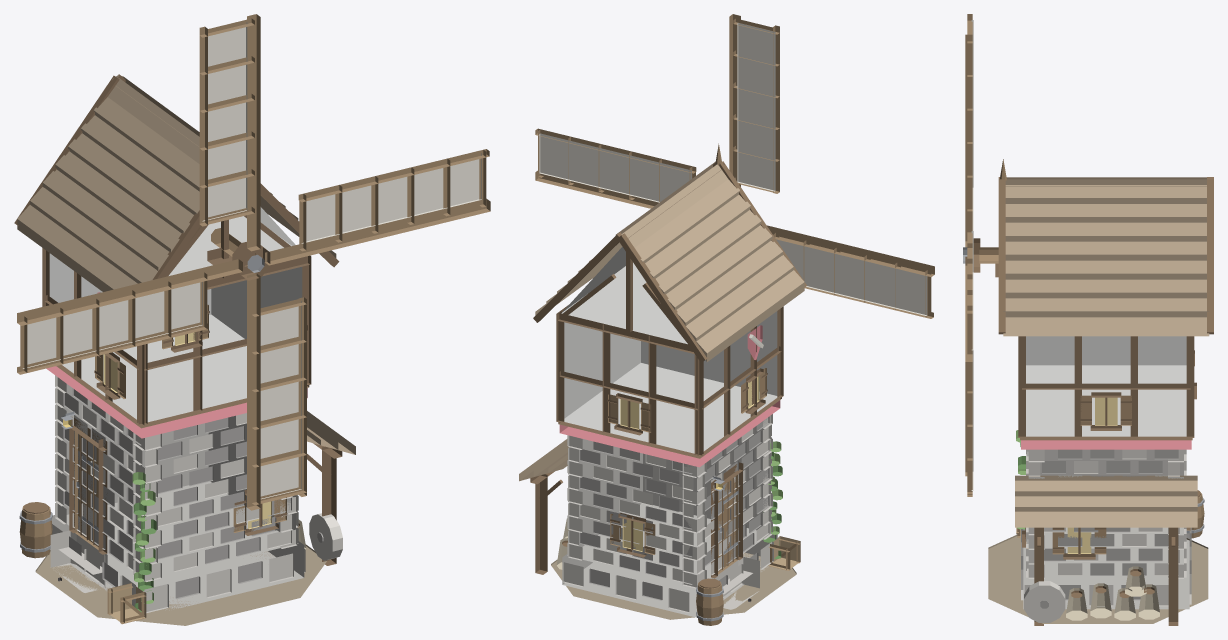
File: mill_2.glb
3 views of the same model, side by side, from view 1: azimuth 30°, elevation 25°; view 2: azimuth 150°, elevation 25°; view 3: azimuth 270°, elevation 25° (orthographic). The views are drawn at different scales.
Visible parts, largest first — view 1: Upper, Walls, Sails.Canvas, Sails.Canvas#3, Sails.Canvas#2, Sails.Canvas#4, Ground, Base, Roof, Roof#3, Roof#4, Roof#5 (+30 smaller); view 2: Upper, Sails.Canvas#2, Walls, Sails.Canvas#3, Sails.Canvas, Gable, Roof, Base, Ground, Roof#2, Roof#3, Roof#4 (+24 smaller); view 3: Upper, Roof#9, Ground, Roof#11, Roof#12, Roof#10, Shed.Roof, Roof#13, Roof#14, Roof#15, Walls, Shed.Roof#3 (+28 smaller).
Part boxes in pixels (x1=…): Upper: x1=49, y1=253, x2=302, y2=422; Walls: x1=63, y1=384, x2=295, y2=576; Sails.Canvas: x1=23, y1=282, x2=202, y2=368; Sails.Canvas#3: x1=301, y1=153, x2=481, y2=243; Sails.Canvas#2: x1=202, y1=22, x2=247, y2=221; Sails.Canvas#4: x1=260, y1=301, x2=301, y2=499; Ground: x1=35, y1=544, x2=326, y2=625; Base: x1=50, y1=515, x2=304, y2=610; Roof: x1=17, y1=205, x2=137, y2=291; Roof#3: x1=42, y1=169, x2=168, y2=270; Roof#4: x1=55, y1=151, x2=181, y2=251; Roof#5: x1=68, y1=133, x2=193, y2=233; Upper: x1=564, y1=311, x2=777, y2=453; Sails.Canvas#2: x1=737, y1=23, x2=775, y2=191; Walls: x1=569, y1=425, x2=770, y2=583; Sails.Canvas#3: x1=539, y1=133, x2=691, y2=202; Sails.Canvas: x1=776, y1=239, x2=927, y2=315; Gable: x1=561, y1=247, x2=687, y2=344; Roof: x1=696, y1=270, x2=804, y2=361; Base: x1=562, y1=534, x2=777, y2=617; Ground: x1=551, y1=552, x2=796, y2=619; Roof#2: x1=686, y1=255, x2=793, y2=341; Roof#3: x1=676, y1=240, x2=783, y2=325; Roof#4: x1=666, y1=225, x2=772, y2=309; Upper: x1=1026, y1=336, x2=1186, y2=436; Roof#9: x1=1003, y1=311, x2=1209, y2=336; Ground: x1=988, y1=535, x2=1208, y2=623; Roof#11: x1=1005, y1=273, x2=1206, y2=292; Roof#12: x1=1005, y1=254, x2=1206, y2=273; Roof#10: x1=1005, y1=292, x2=1206, y2=311; Shed.Roof: x1=1015, y1=507, x2=1197, y2=527; Roof#13: x1=1005, y1=236, x2=1206, y2=254; Roof#14: x1=1005, y1=217, x2=1206, y2=235; Roof#15: x1=1005, y1=198, x2=1206, y2=216; Walls: x1=1029, y1=449, x2=1183, y2=577; Shed.Roof#3: x1=1015, y1=475, x2=1197, y2=491.
Size of the model in its own units: 9 by 11.05 by 4.68.
